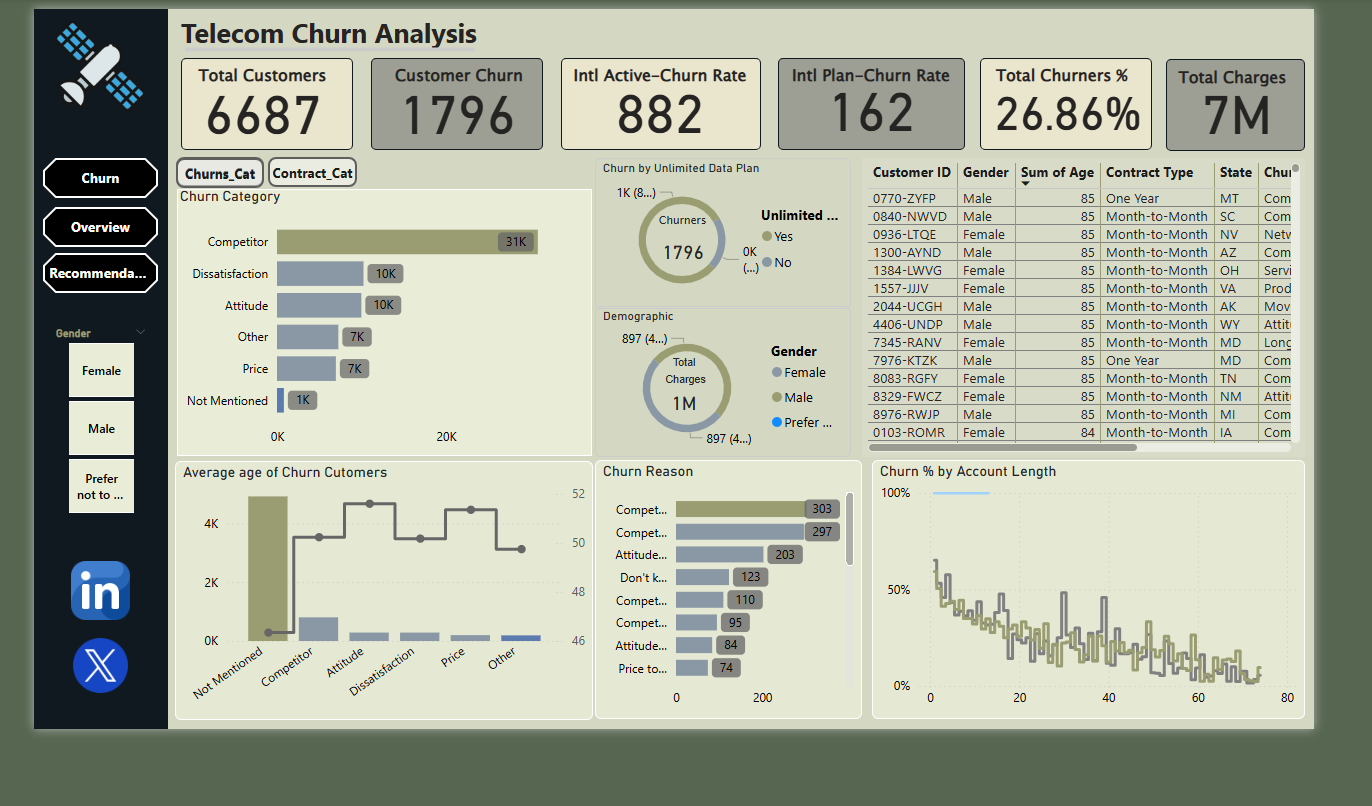

Layout of this report page (visuals, bound fields, positions):
{"tool":"powerbi","page":{"name":"Churn","canvas":[1280,720],"ordinal":0},"visuals":[{"type":"shape","box":[0,0,134.4,720],"z":0},{"type":"actionButton","title":"Contract_cat","box":[234.7,148.3,88.4,30.5],"z":0,"group":"g1"},{"type":"actionButton","title":"Churns_cat","box":[142.4,148.3,88.4,30.5],"z":1000,"group":"g1"},{"type":"actionButton","title":"Churns_cat","box":[142.4,149.3,88.4,30.5],"z":1000,"group":"g2"},{"type":"clusteredBarChart","title":" Churn Category","fields":{"Category":["Vertex Mobile Net - Data.Churn Category"],"Y":["Sum(Vertex Mobile Net - Data.Monthly Charge)"]},"box":[141,179,409.6,267],"z":1000,"group":"g3"},{"type":"shape","box":[142.6,180.2,415.3,267],"z":1000},{"type":"shape","box":[146.7,48.9,172.2,92.2],"z":2000},{"type":"card","fields":{"Values":["CountNonNull(Vertex Mobile Net - Data.Customer ID)"]},"box":[161.1,48.9,134.4,100],"z":3000},{"type":"textbox","box":[146.7,48.9,163.3,35.6],"z":4000},{"type":"shape","box":[336.7,48.9,172.2,92.2],"z":5000},{"type":"shape","box":[526.7,48.9,200,92.2],"z":6000},{"type":"card","fields":{"Values":["CountNonNull(Vertex Mobile Net - Data.Customer ID)"]},"box":[355.6,48.9,134.4,100],"z":7000},{"type":"textbox","box":[355.6,48.9,171.1,35.6],"z":8000},{"type":"card","fields":{"Values":["CountNonNull(Vertex Mobile Net - Data.Intl Active)"]},"box":[548.9,52.2,154.4,92.2],"z":9000},{"type":"shape","box":[744.4,48.9,186.7,92.2],"z":10000},{"type":"shape","box":[945.6,48.9,172.2,92.2],"z":11000},{"type":"card","fields":{"Values":["CountNonNull(Vertex Mobile Net - Data.Intl Plan)"]},"box":[762.2,48.9,150,94.4],"z":12000},{"type":"card","fields":{"Values":["Vertex Mobile Net - Data.Churn %"]},"box":[954.4,64.4,160,68.9],"z":13000},{"type":"textbox","box":[522.2,48.9,207.8,45.6],"z":14000},{"type":"shape","box":[1132.2,50,138.9,92.2],"z":15000},{"type":"textbox","box":[734.4,48.9,205.6,41.1],"z":16000},{"type":"textbox","box":[945.6,48.9,163.3,42.2],"z":17000},{"type":"card","fields":{"Values":["Sum(Vertex Mobile Net - Data.Total Charges)"]},"box":[1145.6,60,113.3,77.8],"z":18000},{"type":"textbox","box":[1116.7,51.1,163.3,40],"z":19000},{"type":"donutChart","title":"Demographic","fields":{"Category":["Vertex Mobile Net - Data.Gender"],"Y":["CountNonNull(Vertex Mobile Net - Data.Customer ID)"]},"box":[561.2,296.9,256.2,151.2],"z":20000},{"type":"card","fields":{"Values":["Vertex Mobile Net - Data.numbers of Churn"]},"box":[599.3,210.8,100,66.7],"z":21000,"group":"g4"},{"type":"lineStackedColumnComboChart","title":"Average age of Churn Cutomers","fields":{"Category":["Vertex Mobile Net - Data.Churn Category"],"Y2":["Avg(Vertex Mobile Net - Data.Age)"],"Y":["CountNonNull(Vertex Mobile Net - Data.Customer ID)"]},"box":[141.2,451.7,417.3,258.9],"z":21000},{"type":"donutChart","title":"Churn by Unlimited Data Plan","fields":{"Y":["Vertex Mobile Net - Data.numbers of Churn"],"Category":["Vertex Mobile Net - Data.Unlimited Data Plan"]},"box":[561.2,149.4,256.2,150.3],"z":22000},{"type":"textbox","box":[610.4,196.4,76.7,41.1],"z":22000,"group":"g4"},{"type":"group","id":"g1","title":"CatInactive","box":[142.4,148.3,180.8,30.5],"z":23000},{"type":"group","id":"g2","title":"Catactive","box":[142.4,149.3,180.8,30.5],"z":24000},{"type":"group","id":"g3","title":"Group 1","box":[141,179,413,272.6],"z":25000},{"type":"card","fields":{"Values":["Sum(Vertex Mobile Net - Data.Total Charges)"]},"box":[610.1,380.2,79.7,25.3],"z":26000},{"type":"group","id":"g4","title":"Group 2","box":[599.3,196.4,100.5,80.6],"z":27000},{"type":"textbox","box":[582.1,337.7,135.8,69.7],"z":28000},{"type":"textbox","box":[142.2,0,334.5,49.2],"z":29000},{"type":"shape","box":[151,16.7,289.8,47.4],"z":30000},{"type":"clusteredBarChart","title":"Churn Reason","fields":{"Category":["Vertex Mobile Net - Data.Churn Reason"],"Y":["CountNonNull(Vertex Mobile Net - Data.Customer ID)"]},"box":[561.1,451.1,266.7,258.9],"z":31000},{"type":"tableEx","fields":{"Values":["Vertex Mobile Net - Data.Customer ID","Vertex Mobile Net - Data.Gender","Sum(Vertex Mobile Net - Data.Age)","Vertex Mobile Net - Data.Contract Type","Vertex Mobile Net - Data.State","Vertex Mobile Net - Data.Churn Reason"]},"box":[827.8,148.9,443.3,298.9],"z":32000},{"type":"lineChart","title":"Churn % by Account Length","fields":{"Y":["Vertex Mobile Net - Data.Churn %"],"Category":["Vertex Mobile Net - Data.Account Length (in months)"],"Series":["Vertex Mobile Net - Data.Gender"]},"box":[837.8,451.1,433.3,258.9],"z":33000},{"type":"shape","box":[8.9,148.9,115.6,40],"z":34000},{"type":"shape","box":[8.9,197.8,115.6,40],"z":35000},{"type":"shape","box":[8.9,244.4,115.6,40],"z":36000},{"type":"slicer","fields":{"Values":["Vertex Mobile Net - Data.Gender"]},"box":[8.9,313.3,115.6,197.8],"z":37000},{"type":"image","box":[10,5.6,112.2,102.2],"z":38000},{"type":"image","box":[27.8,546.7,76.7,68.9],"z":39000},{"type":"image","box":[27.8,624.4,76.7,64.4],"z":40000}]}

Visuals, with their boxes on the page's 1280x720 design canvas (x1, y1, x2, y2). These are canvas units, not pixel positions in the 1372x806 screenshot, which may show the page scaled, cropped or inside an application window:
shape: box=[0, 0, 134, 720]
"Contract_cat" actionButton: box=[235, 148, 323, 179]
"Churns_cat" actionButton: box=[142, 148, 231, 179]
"Churns_cat" actionButton: box=[142, 149, 231, 180]
" Churn Category" clusteredBarChart: box=[141, 179, 551, 446]
shape: box=[143, 180, 558, 447]
shape: box=[147, 49, 319, 141]
card - CountNonNull(Vertex Mobile Net - Data.Customer ID): box=[161, 49, 296, 149]
textbox: box=[147, 49, 310, 84]
shape: box=[337, 49, 509, 141]
shape: box=[527, 49, 727, 141]
card - CountNonNull(Vertex Mobile Net - Data.Customer ID): box=[356, 49, 490, 149]
textbox: box=[356, 49, 527, 84]
card - CountNonNull(Vertex Mobile Net - Data.Intl Active): box=[549, 52, 703, 144]
shape: box=[744, 49, 931, 141]
shape: box=[946, 49, 1118, 141]
card - CountNonNull(Vertex Mobile Net - Data.Intl Plan): box=[762, 49, 912, 143]
card - Vertex Mobile Net - Data.Churn %: box=[954, 64, 1114, 133]
textbox: box=[522, 49, 730, 94]
shape: box=[1132, 50, 1271, 142]
textbox: box=[734, 49, 940, 90]
textbox: box=[946, 49, 1109, 91]
card - Sum(Vertex Mobile Net - Data.Total Charges): box=[1146, 60, 1259, 138]
textbox: box=[1117, 51, 1280, 91]
"Demographic" donutChart: box=[561, 297, 817, 448]
card - Vertex Mobile Net - Data.numbers of Churn: box=[599, 211, 699, 278]
"Average age of Churn Cutomers" lineStackedColumnComboChart: box=[141, 452, 558, 711]
"Churn by Unlimited Data Plan" donutChart: box=[561, 149, 817, 300]
textbox: box=[610, 196, 687, 238]
"CatInactive" group: box=[142, 148, 323, 179]
"Catactive" group: box=[142, 149, 323, 180]
"Group 1" group: box=[141, 179, 554, 452]
card - Sum(Vertex Mobile Net - Data.Total Charges): box=[610, 380, 690, 406]
"Group 2" group: box=[599, 196, 700, 277]
textbox: box=[582, 338, 718, 407]
textbox: box=[142, 0, 477, 49]
shape: box=[151, 17, 441, 64]
"Churn Reason" clusteredBarChart: box=[561, 451, 828, 710]
tableEx - Vertex Mobile Net - Data.Customer ID x Vertex Mobile Net - Data.Gender: box=[828, 149, 1271, 448]
"Churn % by Account Length" lineChart: box=[838, 451, 1271, 710]
shape: box=[9, 149, 124, 189]
shape: box=[9, 198, 124, 238]
shape: box=[9, 244, 124, 284]
slicer - Vertex Mobile Net - Data.Gender: box=[9, 313, 124, 511]
image: box=[10, 6, 122, 108]
image: box=[28, 547, 104, 616]
image: box=[28, 624, 104, 689]
